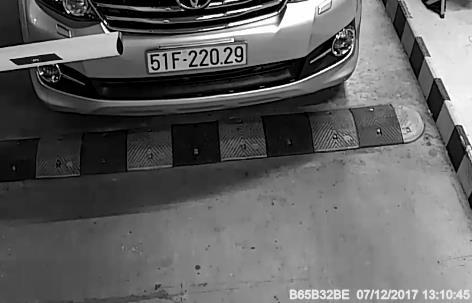License-plate: (135, 42, 260, 78)
